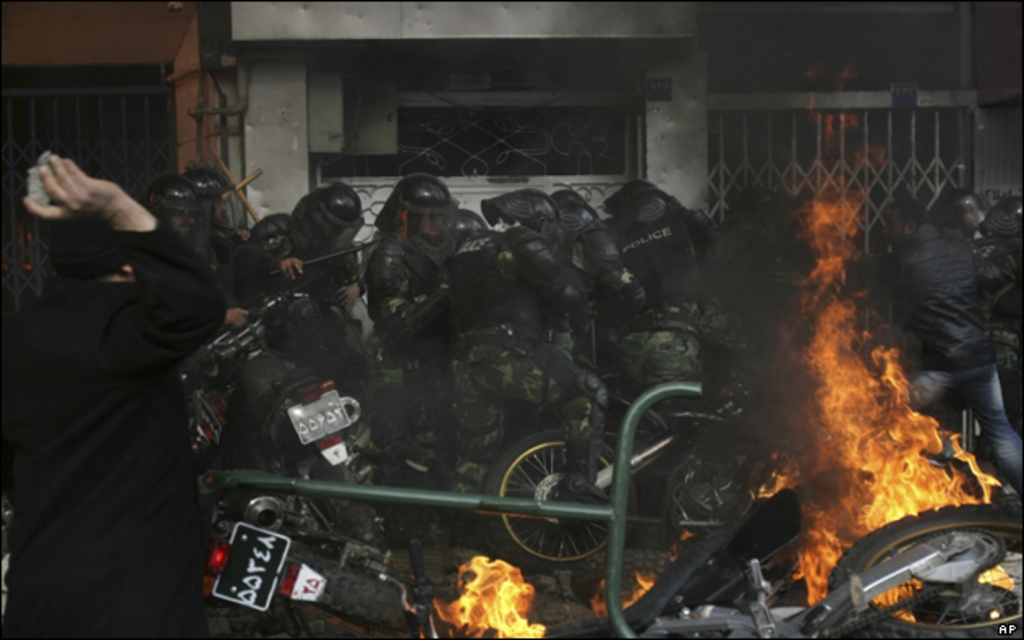Human_hand: (22, 151, 119, 225), (280, 255, 307, 281), (337, 284, 361, 308), (225, 308, 251, 329)
